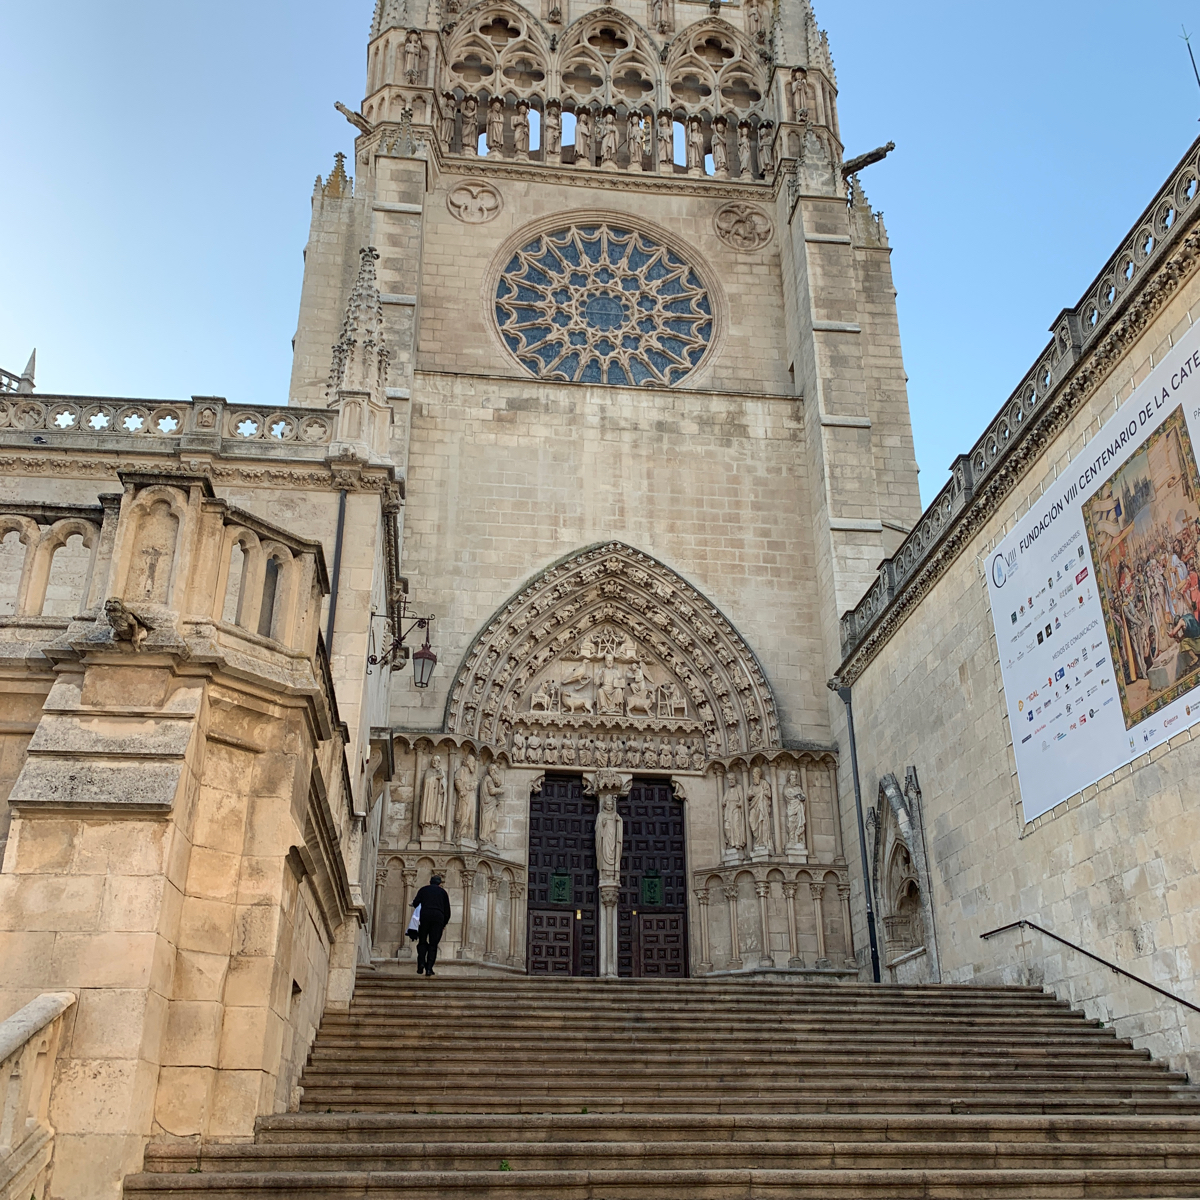arco-apuntado: (457, 532, 763, 737), (555, 5, 662, 75), (663, 14, 765, 85), (440, 5, 547, 69)
